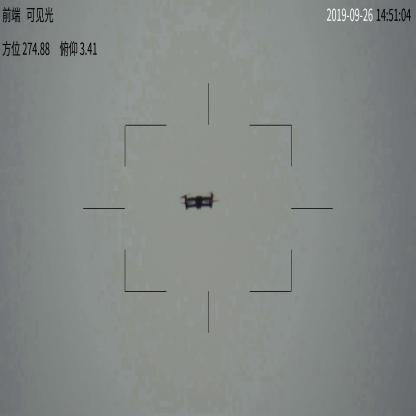uav: (176, 189, 220, 213)
